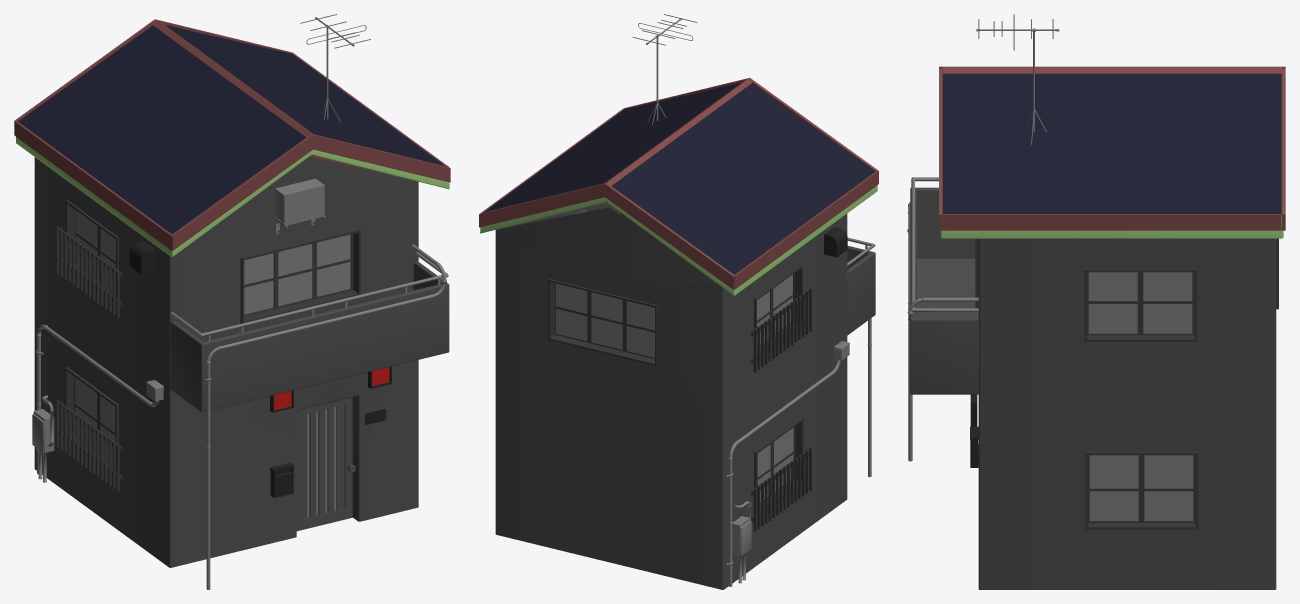
File: SM_building_residental_suburbs_04.fbx
3 renders of one model, left to right at view 1: azimuth 30°, elevation 25°; view 2: azimuth 150°, elevation 25°; view 3: azimuth 270°, elevation 25°, orthographic. The views are drawn at different scales.
Parts seen in each view (by area): view 1: Object1284719; view 2: Object1284719; view 3: Object1284719.
Boxes of the visible parts, x1,y1,x2,y2 form: Object1284719: (14, 14, 450, 589); Object1284719: (479, 14, 878, 589); Object1284719: (907, 14, 1285, 589).
Size of the model in its own units: 211 by 347 by 226.
